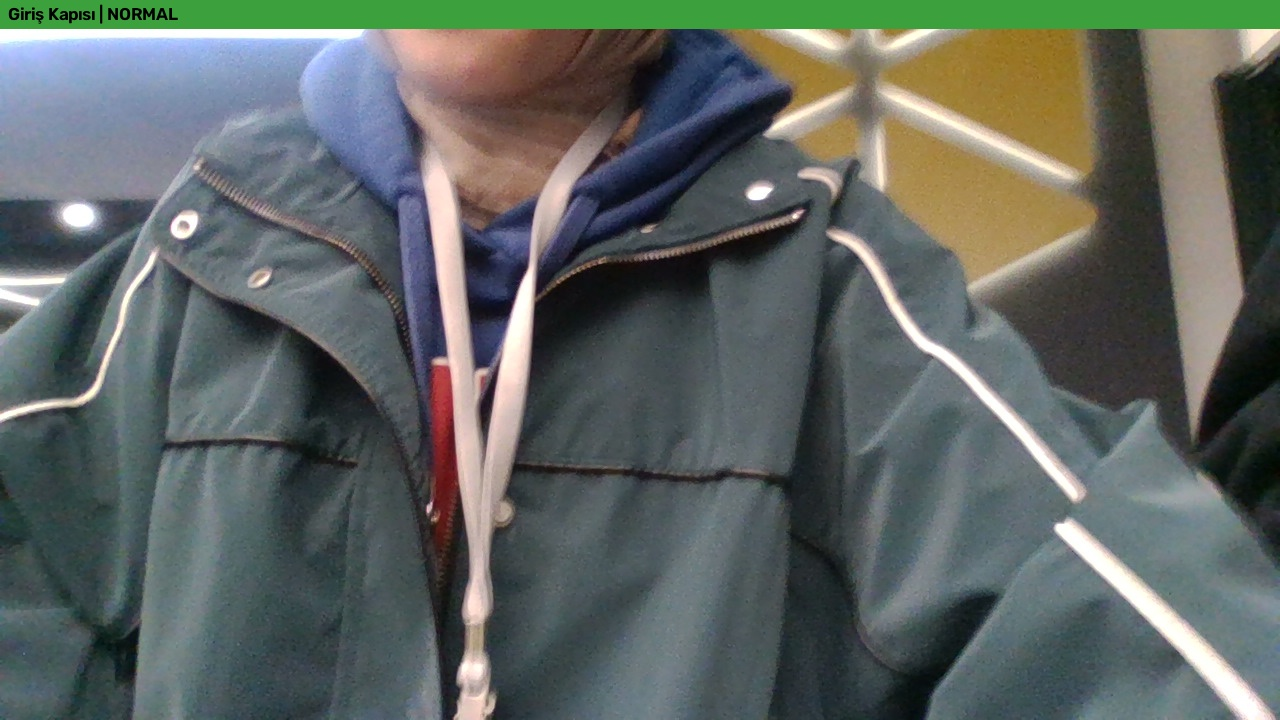weapon: (706, 99, 1022, 569)
